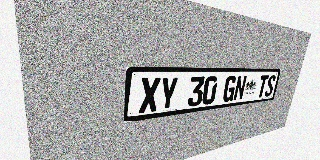0: (201, 76, 218, 105)
3: (187, 76, 205, 107)
G: (222, 76, 237, 102)
N: (233, 76, 247, 101)
S: (264, 75, 276, 97)
T: (256, 75, 269, 98)
X: (139, 77, 161, 114)
Y: (158, 77, 179, 111)
